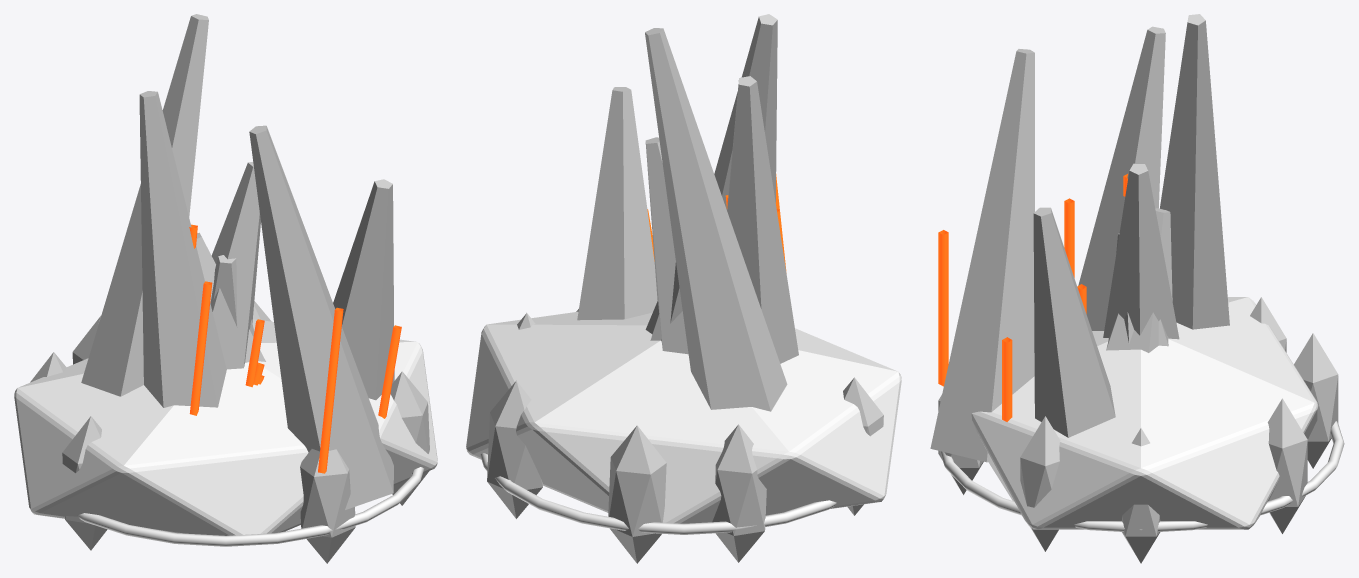
File: AS_20_Obsidian_Cluster.glb
3 renders of one model, left to right at view 1: azimuth 30°, elevation 25°; view 2: azimuth 150°, elevation 25°; view 3: azimuth 270°, elevation 25°, orthographic. The views are drawn at different scales.
Visible parts, largest first — view 1: AS_20_Obsidian_Cluster__base, AS_20_Obsidian_Cluster__crystal.003, AS_20_Obsidian_Cluster__crystal.005, AS_20_Obsidian_Cluster__crystal.002, AS_20_Obsidian_Cluster__crystal.006, AS_20_Obsidian_Cluster__crystal.004, AS_20_Obsidian_Cluster__base crystal splinter.003, AS_20_Obsidian_Cluster__crystal ash ring, AS_20_Obsidian_Cluster__base crystal splinter.006, AS_20_Obsidian_Cluster__base crystal splinter.005, AS_20_Obsidian_Cluster__glowing inclusion.003, AS_20_Obsidian_Cluster__glowing inclusion.005 (+4 smaller); view 2: AS_20_Obsidian_Cluster__base, AS_20_Obsidian_Cluster__crystal.002, AS_20_Obsidian_Cluster__crystal.006, AS_20_Obsidian_Cluster__crystal.005, AS_20_Obsidian_Cluster__base crystal splinter, AS_20_Obsidian_Cluster__base crystal splinter.002, AS_20_Obsidian_Cluster__base crystal splinter.004, AS_20_Obsidian_Cluster__crystal.004, AS_20_Obsidian_Cluster__crystal.003, AS_20_Obsidian_Cluster__crystal ash ring, AS_20_Obsidian_Cluster__base crystal splinter.005, AS_20_Obsidian_Cluster__crystal.001; view 3: AS_20_Obsidian_Cluster__base, AS_20_Obsidian_Cluster__crystal.003, AS_20_Obsidian_Cluster__crystal.002, AS_20_Obsidian_Cluster__crystal.006, AS_20_Obsidian_Cluster__crystal.005, AS_20_Obsidian_Cluster__crystal.004, AS_20_Obsidian_Cluster__base crystal splinter.004, AS_20_Obsidian_Cluster__crystal ash ring, AS_20_Obsidian_Cluster__base crystal splinter, AS_20_Obsidian_Cluster__base crystal splinter.006, AS_20_Obsidian_Cluster__crystal.001, AS_20_Obsidian_Cluster__base crystal splinter.001 (+5 smaller).
Boxes of the visible parts, bbox=[...] form: AS_20_Obsidian_Cluster__base: bbox=[14, 319, 437, 535]; AS_20_Obsidian_Cluster__crystal.003: bbox=[249, 125, 393, 509]; AS_20_Obsidian_Cluster__crystal.005: bbox=[139, 91, 226, 407]; AS_20_Obsidian_Cluster__crystal.002: bbox=[81, 14, 208, 396]; AS_20_Obsidian_Cluster__crystal.006: bbox=[333, 179, 394, 400]; AS_20_Obsidian_Cluster__crystal.004: bbox=[210, 162, 260, 369]; AS_20_Obsidian_Cluster__base crystal splinter.003: bbox=[300, 449, 355, 563]; AS_20_Obsidian_Cluster__crystal ash ring: bbox=[77, 467, 424, 546]; AS_20_Obsidian_Cluster__base crystal splinter.006: bbox=[390, 371, 429, 505]; AS_20_Obsidian_Cluster__base crystal splinter.005: bbox=[62, 416, 107, 550]; AS_20_Obsidian_Cluster__glowing inclusion.003: bbox=[318, 307, 343, 473]; AS_20_Obsidian_Cluster__glowing inclusion.005: bbox=[189, 281, 212, 415]; AS_20_Obsidian_Cluster__base: bbox=[466, 311, 901, 523]; AS_20_Obsidian_Cluster__crystal.002: bbox=[645, 28, 787, 411]; AS_20_Obsidian_Cluster__crystal.006: bbox=[577, 87, 657, 320]; AS_20_Obsidian_Cluster__crystal.005: bbox=[727, 76, 798, 363]; AS_20_Obsidian_Cluster__base crystal splinter: bbox=[608, 425, 666, 563]; AS_20_Obsidian_Cluster__base crystal splinter.002: bbox=[712, 424, 766, 562]; AS_20_Obsidian_Cluster__base crystal splinter.004: bbox=[487, 380, 542, 518]; AS_20_Obsidian_Cluster__crystal.004: bbox=[645, 137, 688, 354]; AS_20_Obsidian_Cluster__crystal.003: bbox=[714, 14, 777, 209]; AS_20_Obsidian_Cluster__crystal ash ring: bbox=[480, 453, 836, 534]; AS_20_Obsidian_Cluster__base crystal splinter.005: bbox=[843, 377, 883, 515]; AS_20_Obsidian_Cluster__crystal.001: bbox=[645, 263, 682, 340]; AS_20_Obsidian_Cluster__base: bbox=[971, 297, 1318, 529]; AS_20_Obsidian_Cluster__crystal.003: bbox=[930, 49, 1034, 462]; AS_20_Obsidian_Cluster__crystal.002: bbox=[1160, 14, 1229, 329]; AS_20_Obsidian_Cluster__crystal.006: bbox=[1033, 207, 1115, 437]; AS_20_Obsidian_Cluster__crystal.005: bbox=[1078, 26, 1165, 330]; AS_20_Obsidian_Cluster__crystal.004: bbox=[1103, 163, 1179, 339]; AS_20_Obsidian_Cluster__base crystal splinter.004: bbox=[1267, 398, 1307, 533]; AS_20_Obsidian_Cluster__crystal ash ring: bbox=[940, 421, 1344, 531]; AS_20_Obsidian_Cluster__base crystal splinter: bbox=[1294, 333, 1338, 468]; AS_20_Obsidian_Cluster__base crystal splinter.006: bbox=[1020, 416, 1060, 551]; AS_20_Obsidian_Cluster__crystal.001: bbox=[1106, 208, 1172, 352]; AS_20_Obsidian_Cluster__base crystal splinter.001: bbox=[1122, 428, 1160, 563].
Bounding box in the file's own units: 1.15 × 1.34 × 1.05.
